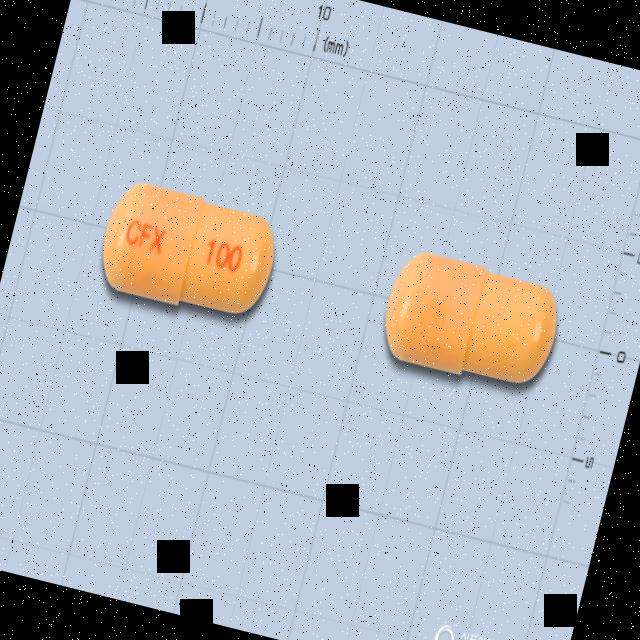Kukje Cefixime Cap: (92, 174, 285, 326)
